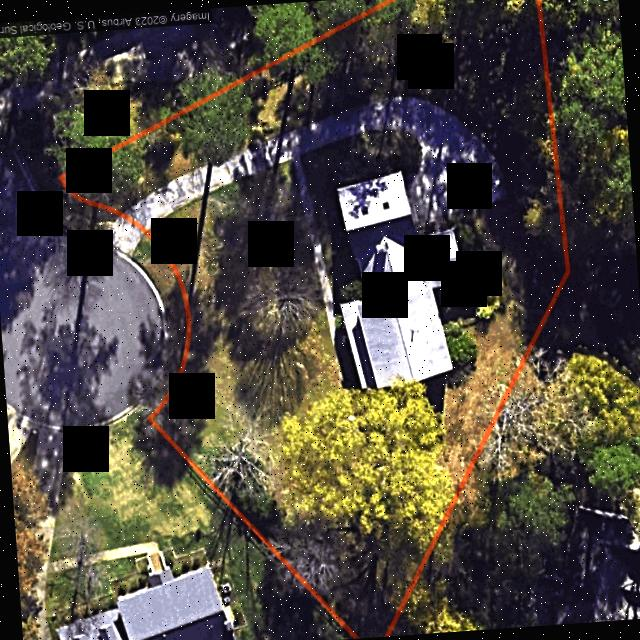Driveway: (211, 95, 503, 228), (127, 165, 204, 225)
Extra Driveway: (100, 218, 139, 252)
Extra Lawn: (130, 235, 184, 420), (35, 177, 112, 237)
House: (323, 171, 469, 390)
